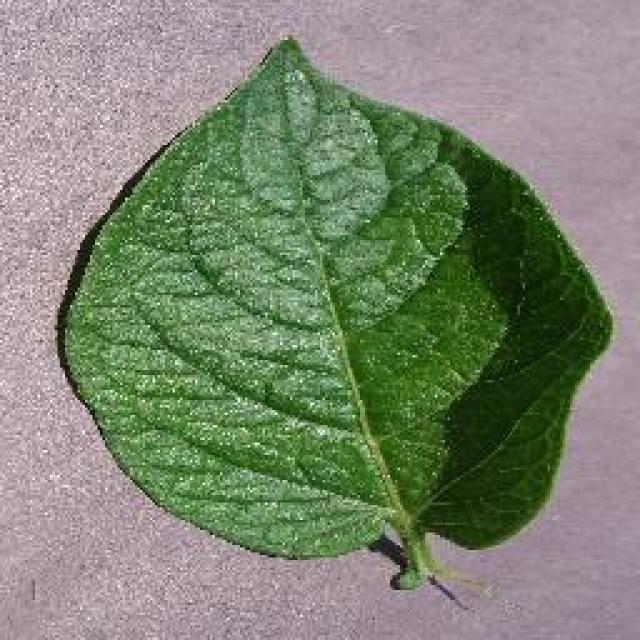Potato: (52, 32, 612, 598)
